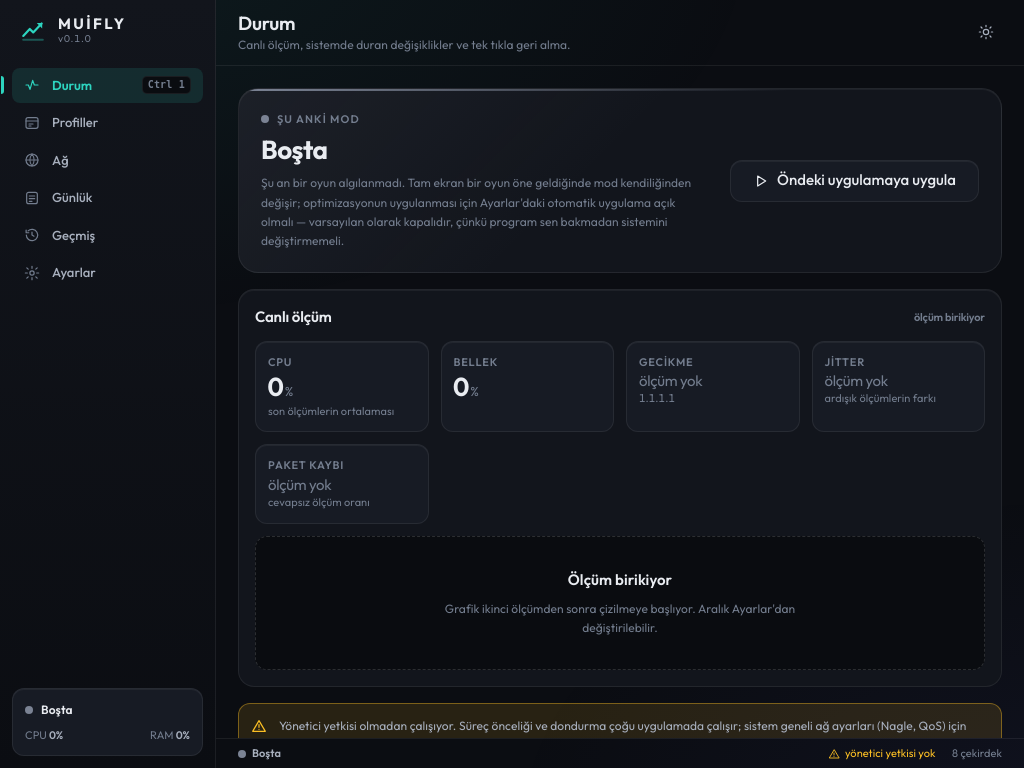
Test: App — profil içe/dışa aktarma › dosya seçilince önce önizleme gösteriliyor, diske yazılmıyor
The width and height of the screenshot is (1024, 768).
Check: the button "Durum Ctrl 1" is shown, box top-left (12, 68), bottom-right (203, 103)
Click the button "Profiller" at (108, 123), box top-left (12, 105), bottom-right (203, 140)
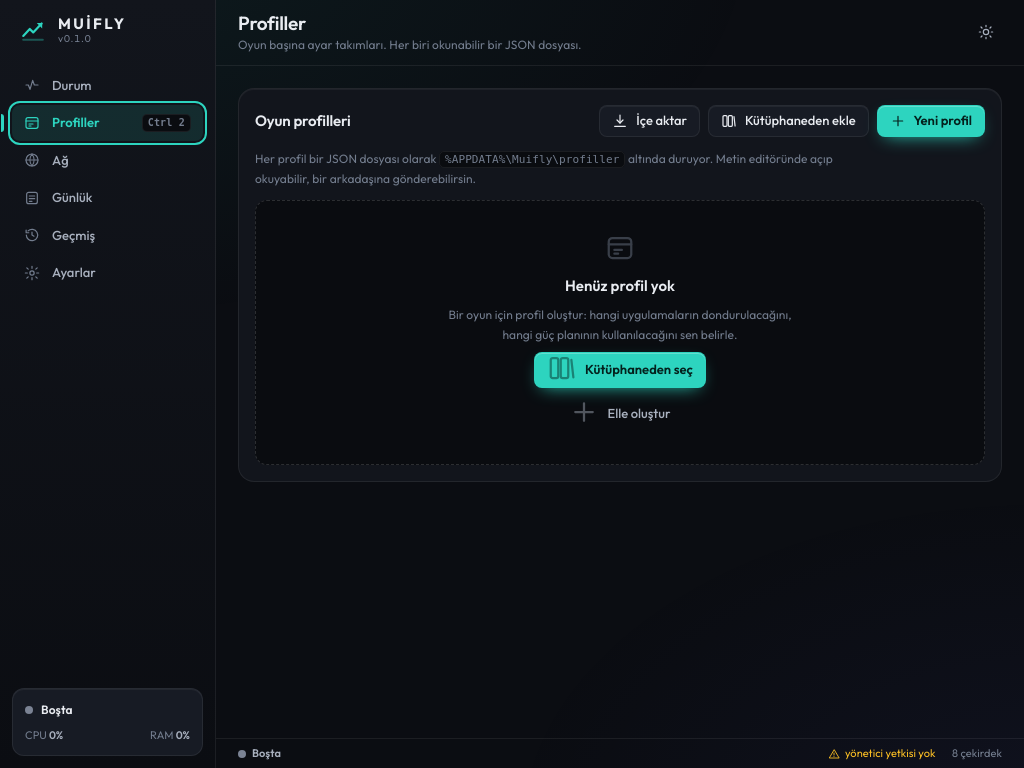
Click the button "İçe aktar" at (650, 121), box top-left (599, 105), bottom-right (700, 137)
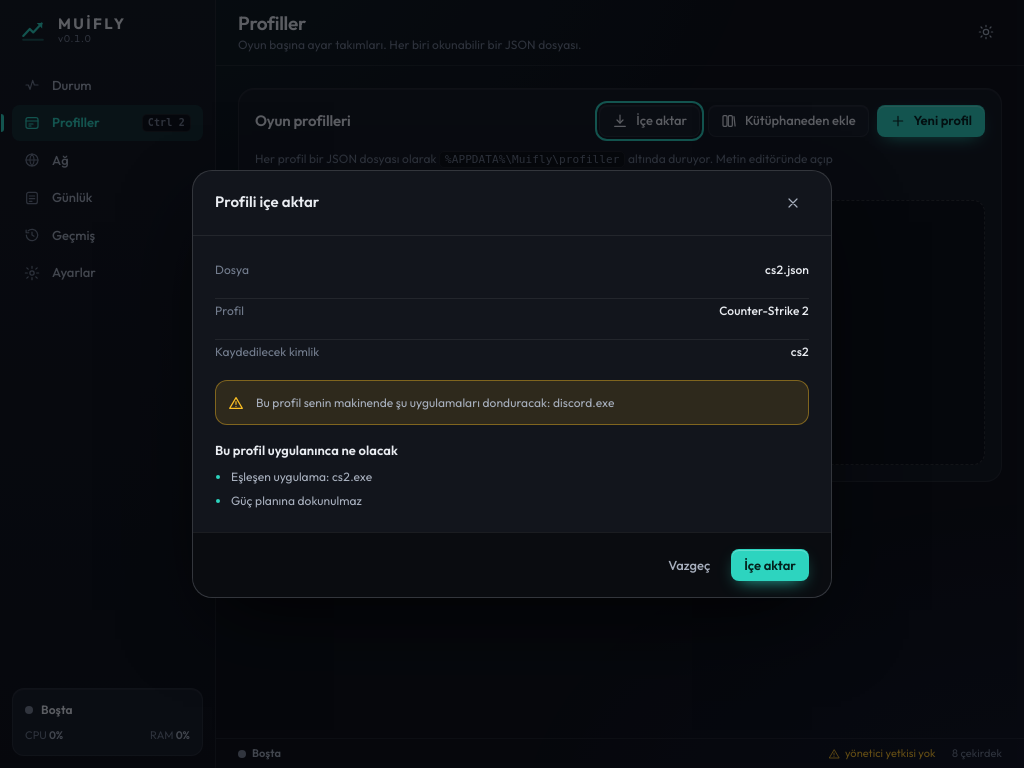
Check: the text "discord.exe" is shown, box top-left (256, 395), bottom-right (614, 410)
